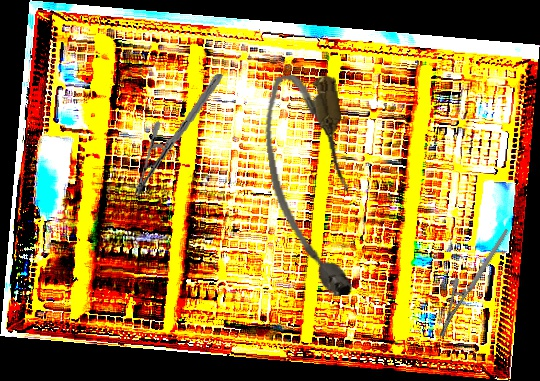Cannula: (257, 69, 366, 303)
Needle Holder: (412, 228, 536, 340), (131, 66, 224, 205)
